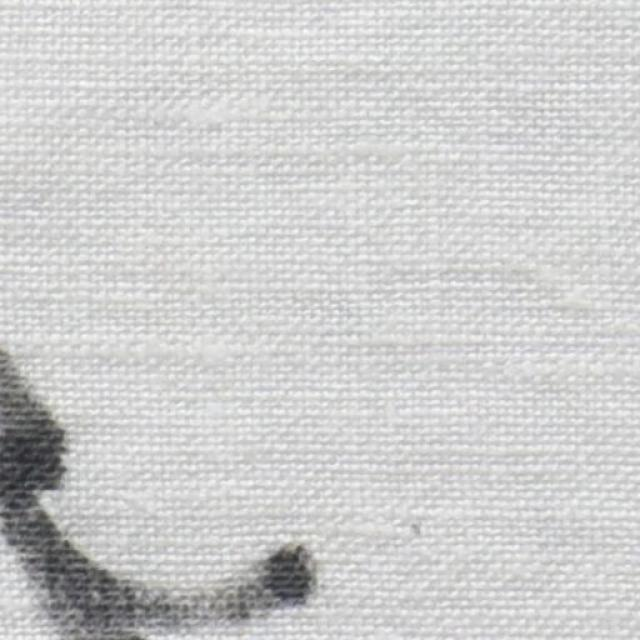Stain: (0, 350, 317, 640)
